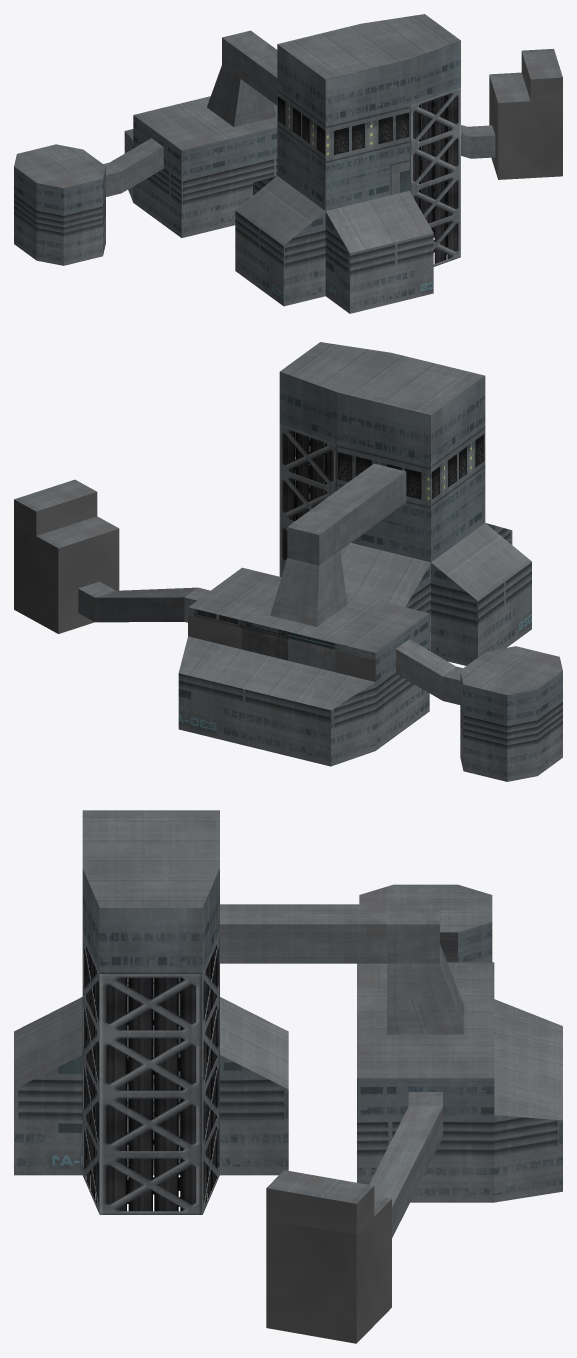
Rendered from Fact01.fbx.
3 renders of one model, top to bottom at view 1: azimuth 30°, elevation 25°; view 2: azimuth 150°, elevation 25°; view 3: azimuth 270°, elevation 25°, orthographic. The views are drawn at different scales.
Visible parts, largest first — view 1: Fact01; view 2: Fact01; view 3: Fact01.
Part boxes in pixels (x1,y1,x2,y2): Fact01: [14, 14, 562, 313]; Fact01: [14, 342, 562, 781]; Fact01: [14, 810, 562, 1343].
Bounding box in the file's own units: 385 × 159 × 256.
